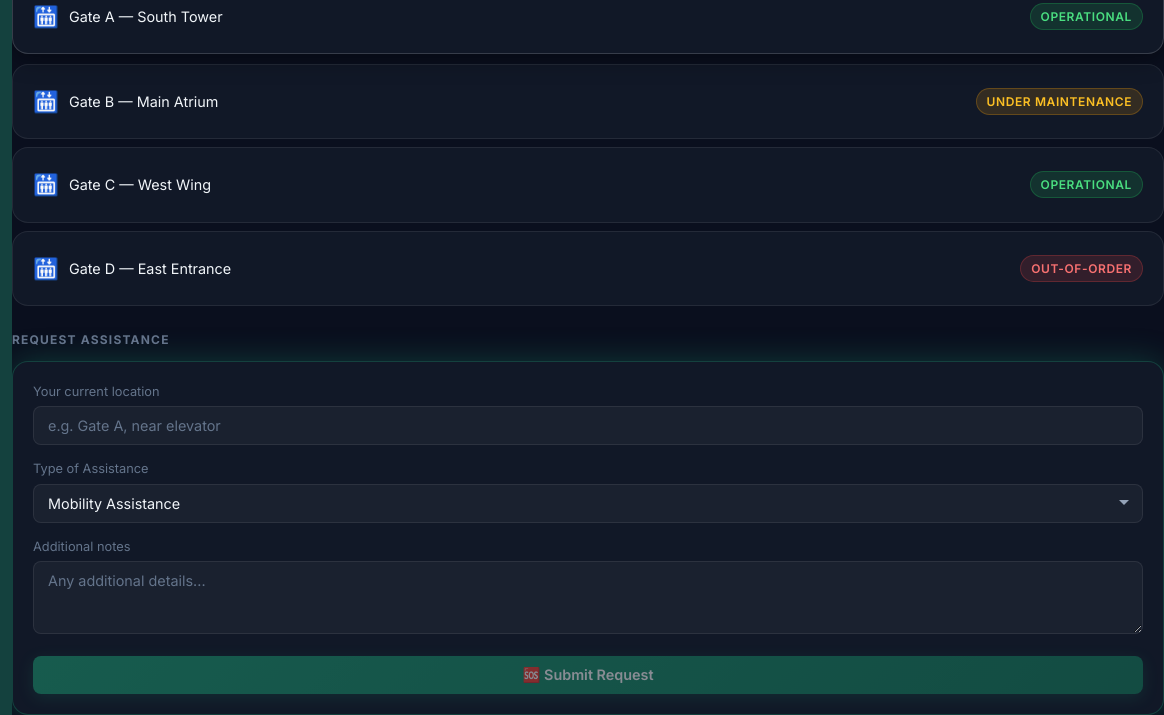
Test case: AccessPath › shows success message after form submission
(page scrolled)
In the field labelled "Your current location": [588, 426] box [33,406,1143,446], type "Gate A"
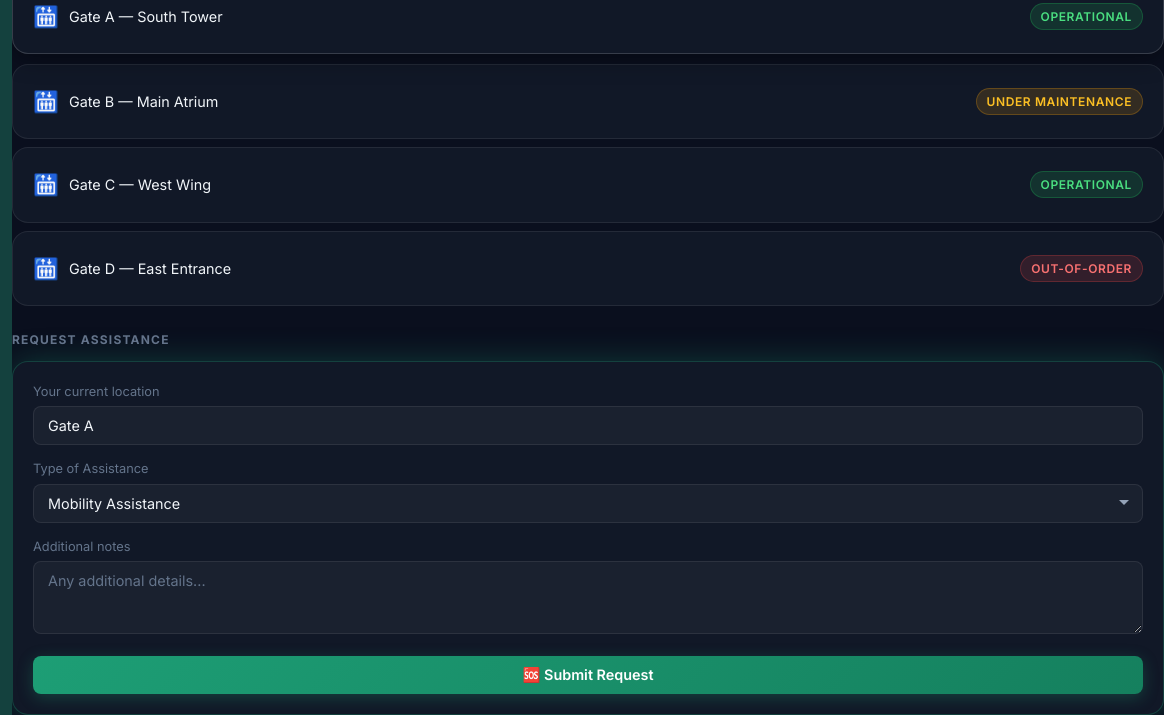
Click the button "🆘 Submit Request": [588, 675] box [33,656,1143,694]
(page scrolled)
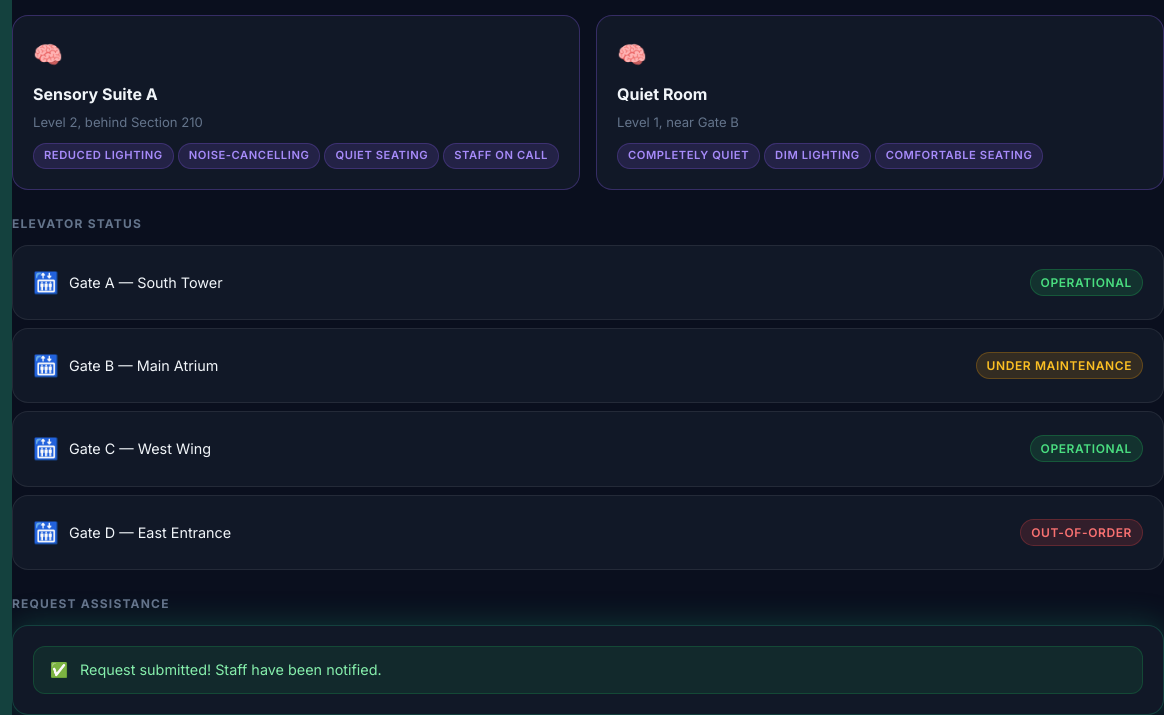
Expected: the message "✅ Request submitted! Staff have been notified." is shown, [33,646,1143,694]
